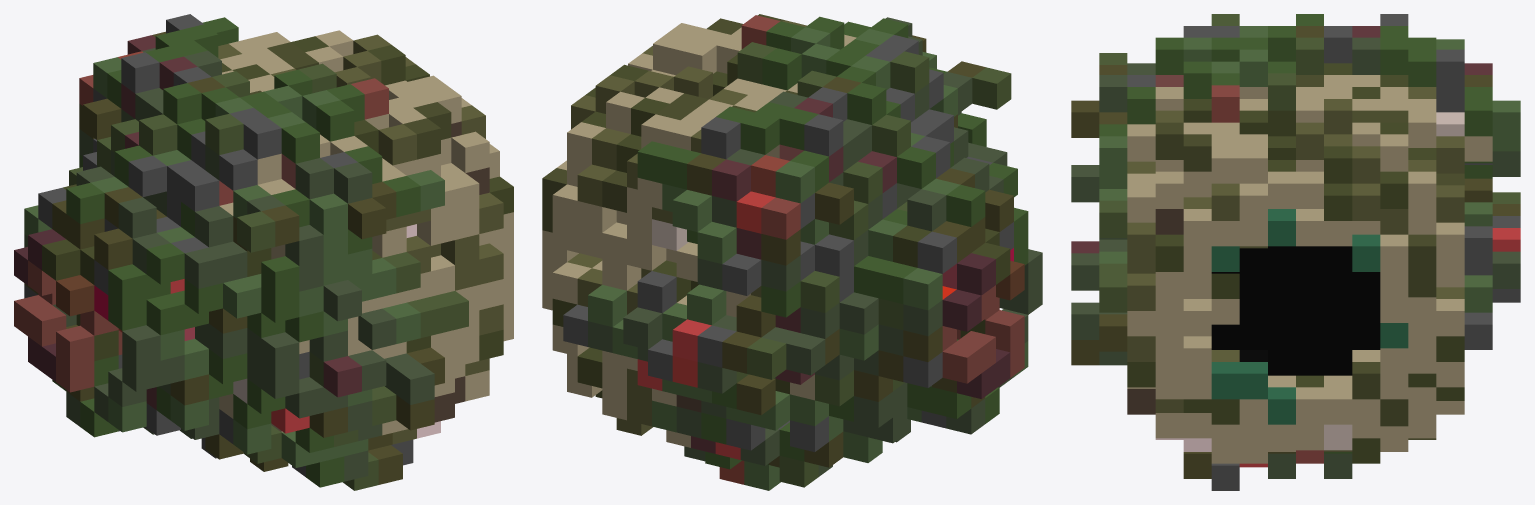
The model's file is mon-11-eyes.obj.
The picture shows the model from 3 angles, left to right: view 1: azimuth 30°, elevation 25°; view 2: azimuth 150°, elevation 25°; view 3: azimuth 270°, elevation 25°; orthographic projection. The views are drawn at different scales.
Parts seen in each view (by area): view 1: eyes; view 2: eyes; view 3: eyes.
Part boxes in pixels (bbox=[...]): eyes: bbox=[14, 14, 513, 490]; eyes: bbox=[542, 14, 1042, 490]; eyes: bbox=[1071, 14, 1520, 490].
Bounding box in the file's own units: 1.6 × 1.5 × 1.6.
Materials: 1 (1 with a texture image).
